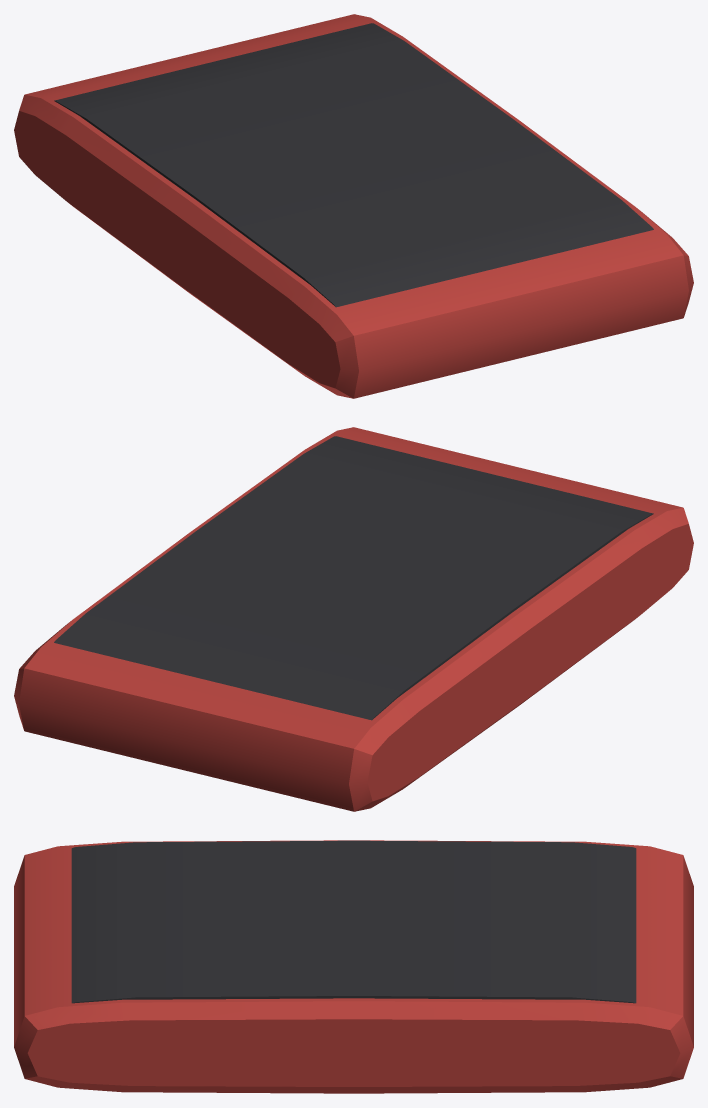
The model's file is tft_lod1.glb.
The picture shows the model from 3 angles, top to bottom: view 1: azimuth 30°, elevation 25°; view 2: azimuth 150°, elevation 25°; view 3: azimuth 270°, elevation 25°; orthographic projection.
Parts seen in each view (by area): view 1: tft_lod1; view 2: tft_lod1; view 3: tft_lod1.
Part boxes in pixels (x1,y1,x2,y2): tft_lod1: [14, 14, 693, 398]; tft_lod1: [14, 427, 693, 811]; tft_lod1: [14, 840, 693, 1093].
Size of the model in its own units: 0.12 by 0.0428 by 0.2.
